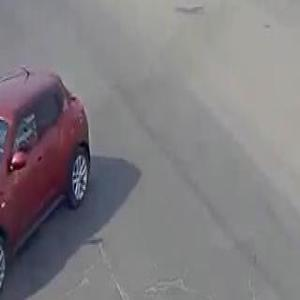significant: (0, 61, 98, 300)
